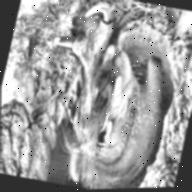boar: (33, 0, 192, 191)
